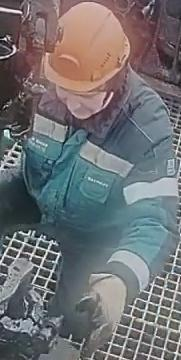gloves: (69, 269, 134, 359)
helmet: (41, 1, 131, 101)
vest: (13, 81, 164, 239)
